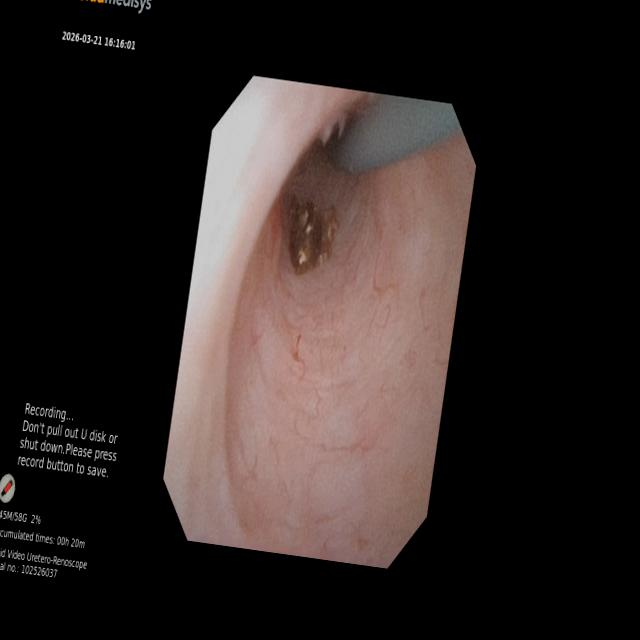stone-new: (286, 195, 338, 274)
